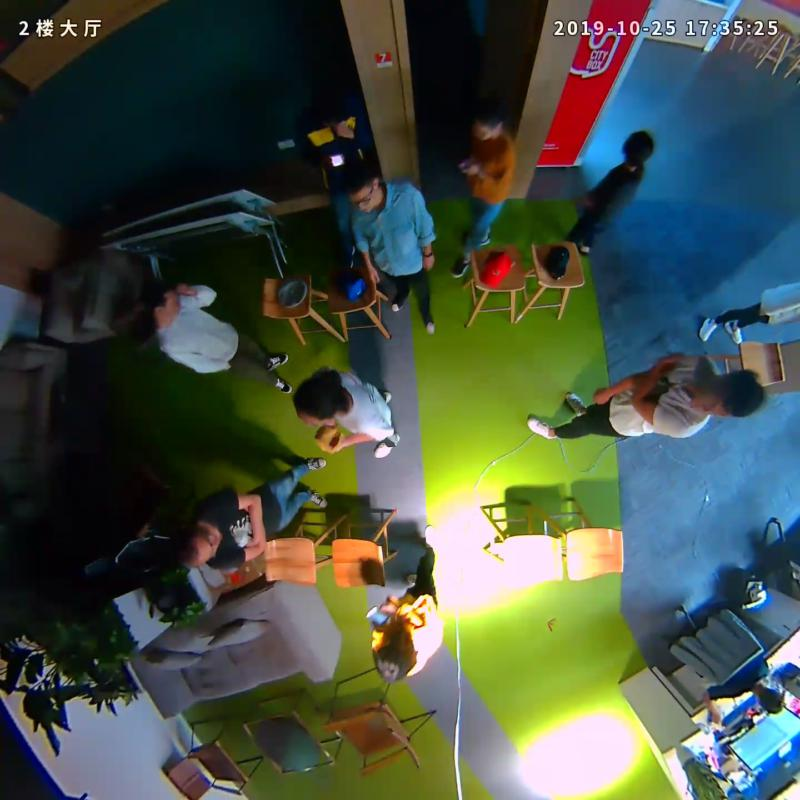head: (691, 369, 766, 418), (295, 368, 348, 424), (173, 520, 222, 569), (341, 161, 384, 212), (373, 638, 414, 683), (467, 97, 505, 143), (141, 279, 180, 321), (621, 130, 657, 168)
